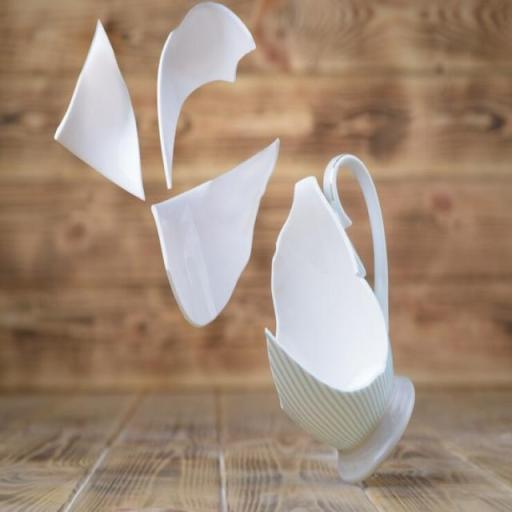glass: (236, 151, 418, 488), (152, 138, 278, 328), (158, 4, 256, 186), (52, 22, 145, 200)
